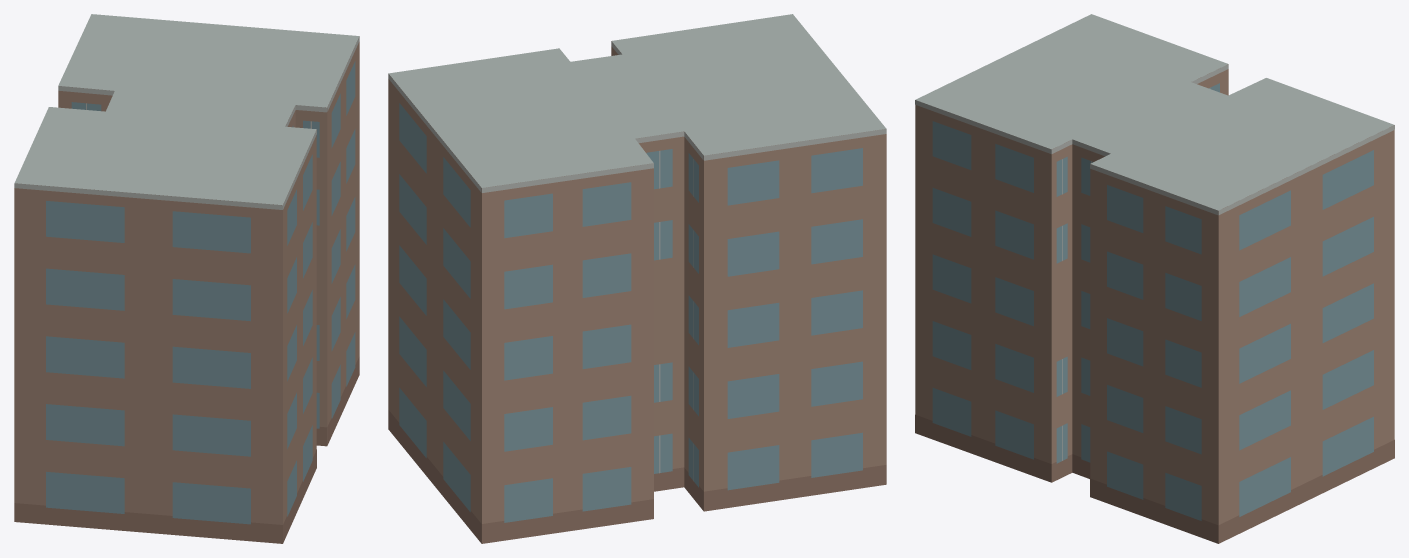
File: survey-upis-32904972.glb
The picture shows the model from 3 angles, left to right: view 1: azimuth 30°, elevation 25°; view 2: azimuth 150°, elevation 25°; view 3: azimuth 270°, elevation 25°; orthographic projection. The views are drawn at different scales.
Visible parts, largest first — view 1: survey-upis-32904972.tmp; view 2: survey-upis-32904972.tmp; view 3: survey-upis-32904972.tmp.
Boxes of the visible parts, bbox=[...] form: survey-upis-32904972.tmp: bbox=[14, 14, 359, 543]; survey-upis-32904972.tmp: bbox=[388, 14, 886, 543]; survey-upis-32904972.tmp: bbox=[915, 14, 1394, 543].
Bounding box in the file's own units: 21.33 × 16.85 × 21.99.
